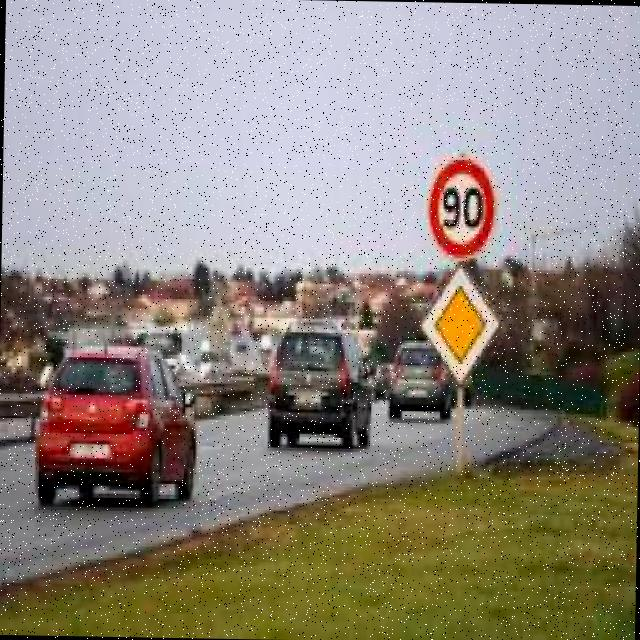Ograniczenie predkosci do 90: (431, 162, 494, 256)
